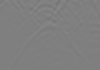hyperbola: (20, 18, 77, 60)
